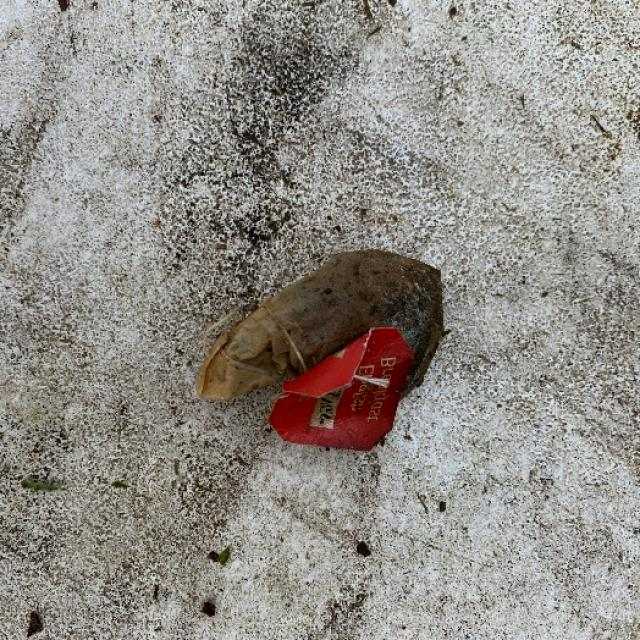inorganic: (276, 321, 417, 450)
organic: (207, 252, 447, 391)
